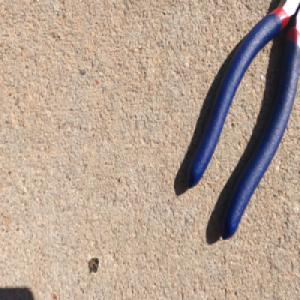Pliers: (185, 0, 300, 247)
